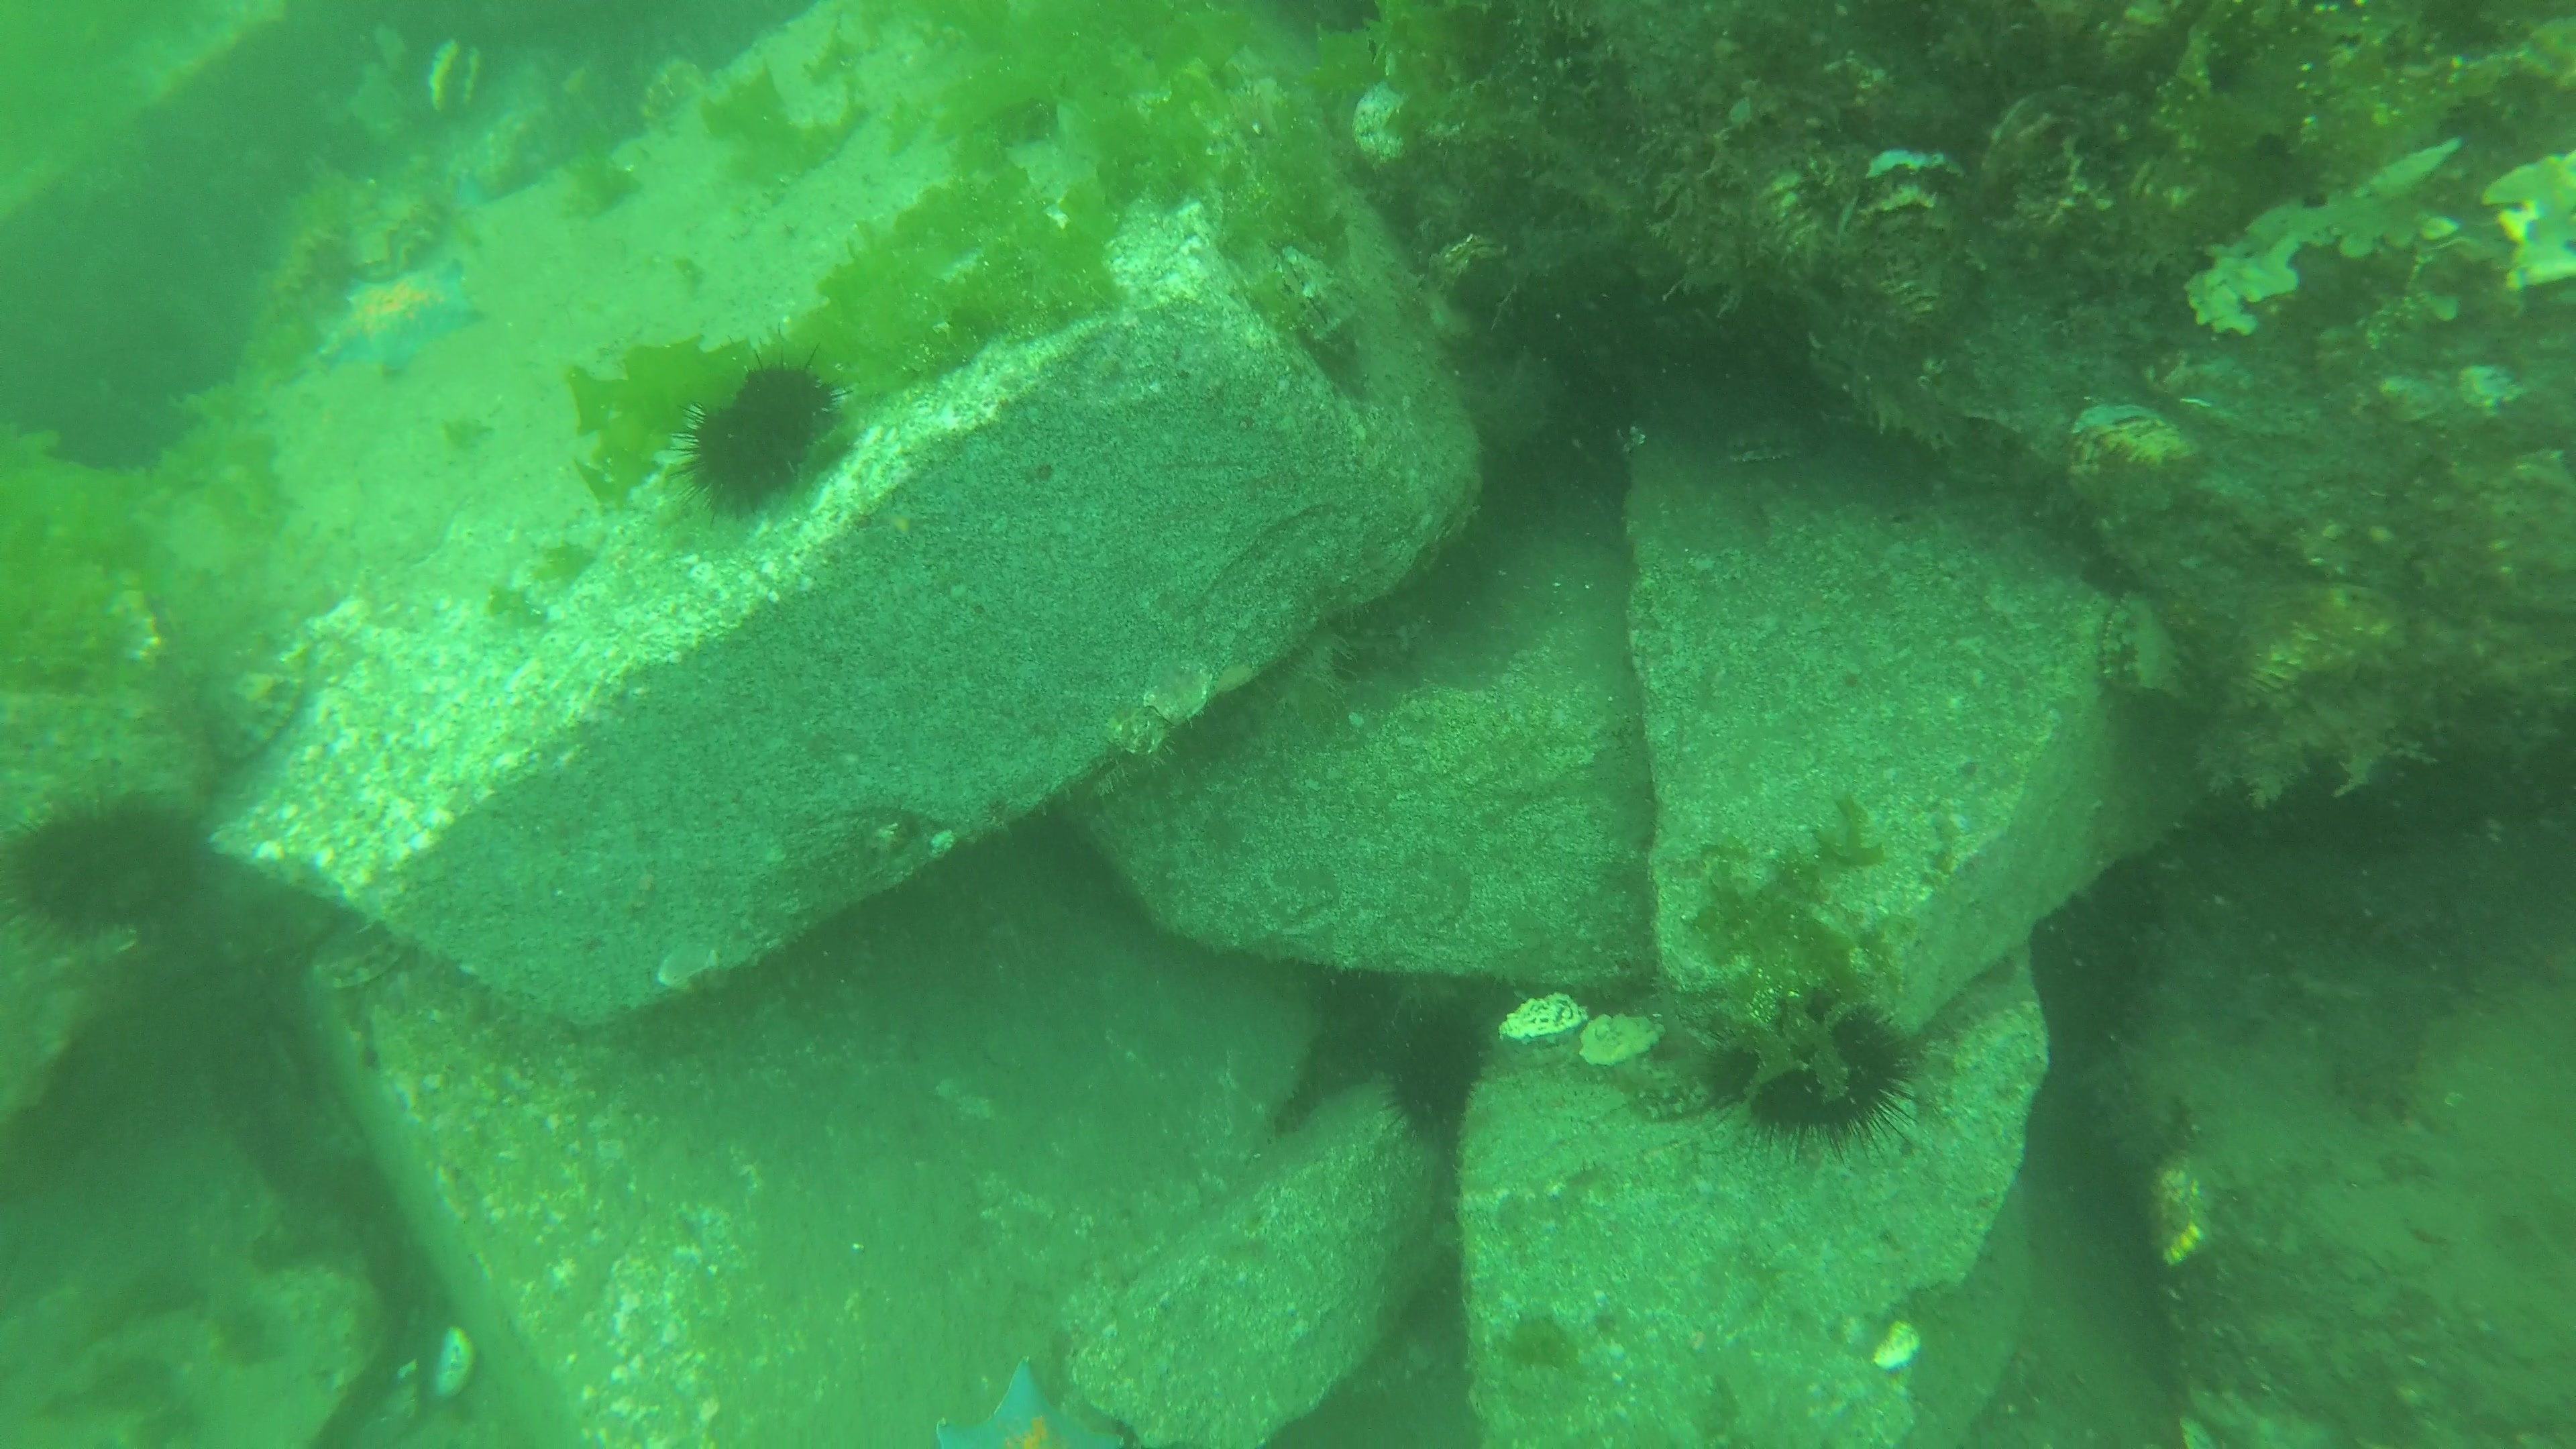echinus: (1709, 978, 1920, 1157), (0, 793, 225, 941), (686, 357, 839, 522), (1378, 1000, 1490, 1145)
starfish: (313, 255, 490, 384), (932, 1357, 1125, 1449)
